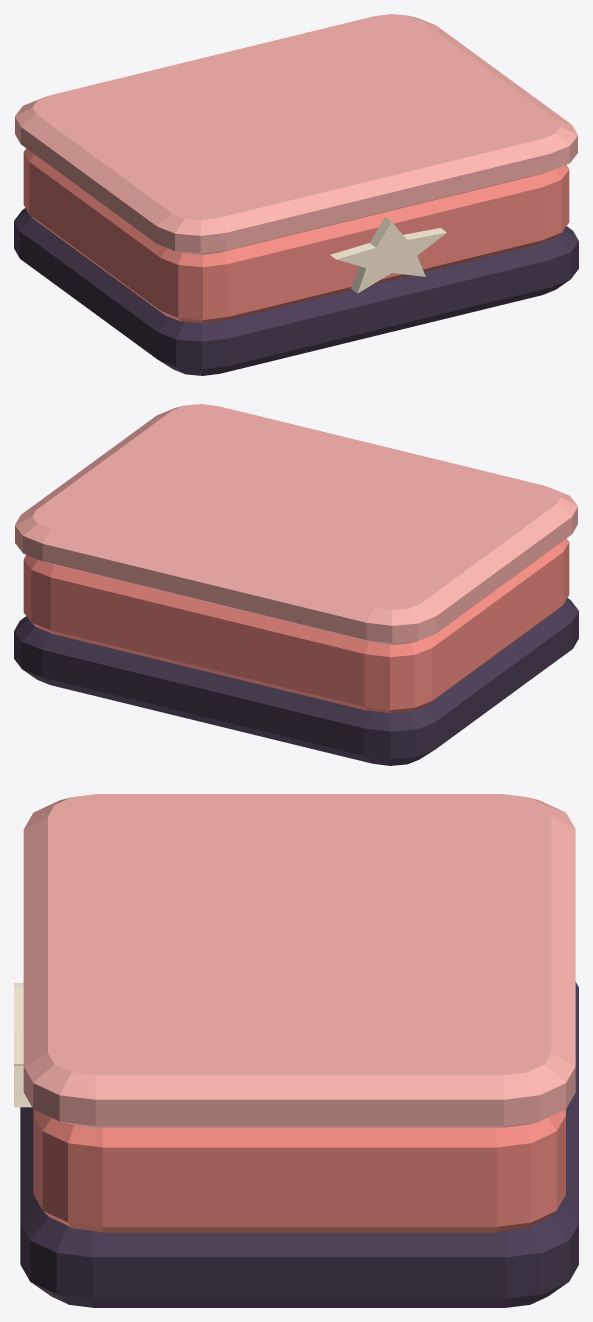
File: podium_3.glb
3 views of the same model, one above another, from view 1: azimuth 30°, elevation 25°; view 2: azimuth 150°, elevation 25°; view 3: azimuth 270°, elevation 25° (orthographic). The views are drawn at different scales.
Visible parts, largest first — view 1: model; view 2: model; view 3: model.
Boxes of the visible parts, bbox=[...] form: model: bbox=[14, 14, 578, 375]; model: bbox=[14, 404, 578, 765]; model: bbox=[14, 794, 578, 1307].
Size of the model in its own units: 1.4 by 0.5 by 1.1.
